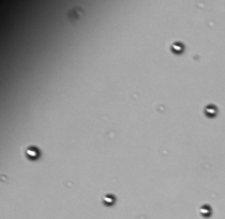Living Cell: (25, 146, 40, 160), (204, 104, 218, 117), (170, 42, 184, 53), (200, 205, 212, 217), (103, 194, 116, 205)
